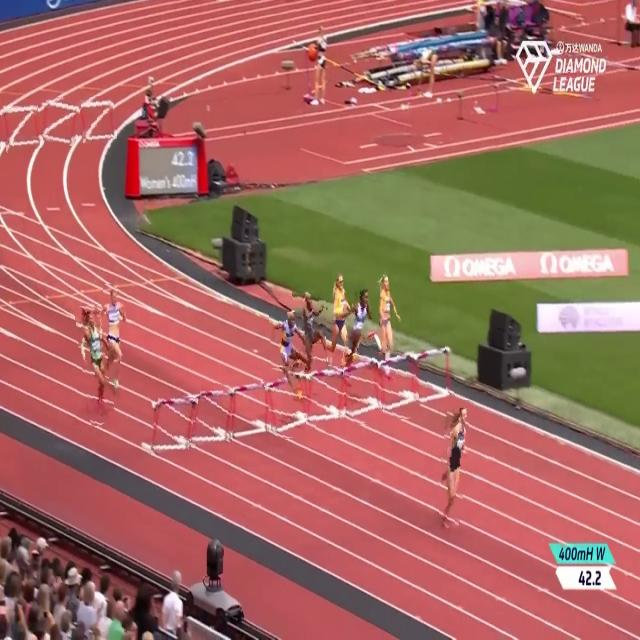athlete: (437, 398, 470, 532), (77, 305, 111, 425), (270, 312, 309, 413), (295, 287, 338, 373), (326, 270, 354, 387), (345, 278, 379, 372), (103, 283, 130, 396), (377, 271, 398, 379)
hurdle: (266, 365, 312, 439), (378, 349, 419, 420), (194, 383, 236, 451), (152, 394, 196, 458), (306, 365, 346, 434), (344, 356, 382, 426), (233, 378, 269, 446), (417, 345, 454, 404), (1, 105, 43, 152), (41, 97, 80, 145), (77, 95, 116, 142)
